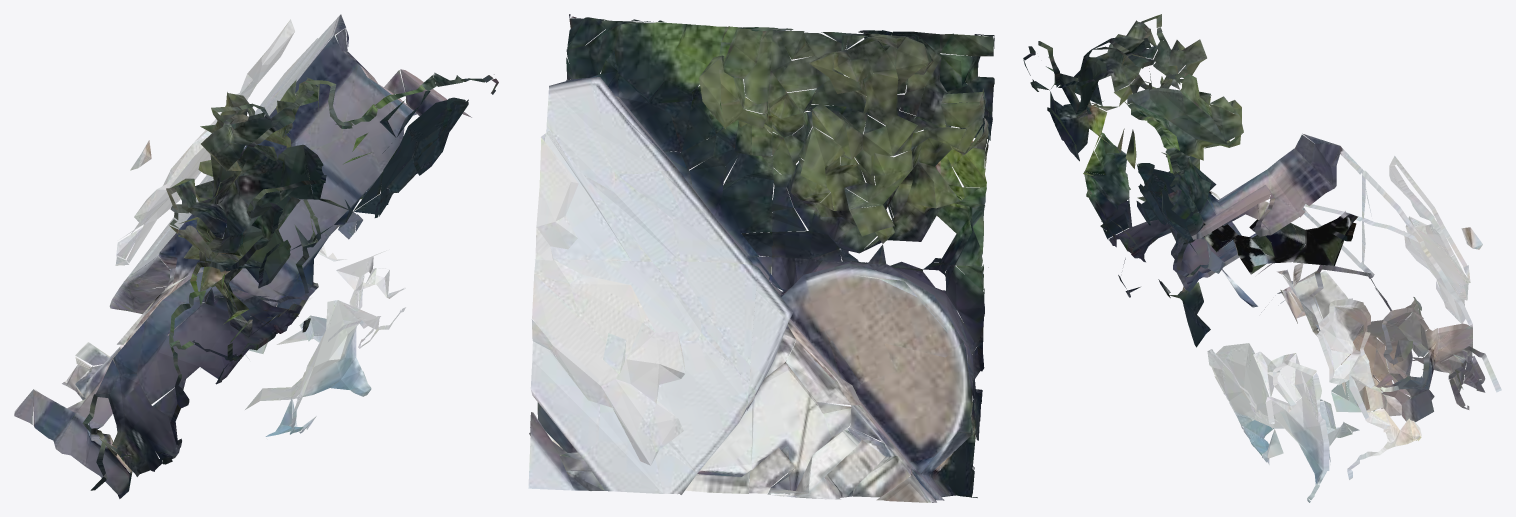
File: AJVsH2x6TDrB9vTRo_pjIz6yE319oH-MWkrPGnz3iuCNI2r1ah-I5RbN5_A7nnAb-38fw4iXfuImCpchNhFGZHJJT8DrLSa3ZSnNX4kFRC86Zwa5absMovZjTmi-nMGqJYrwOR2ApnSNLQfoHYWfQzg4mTrc.glb
The picture shows the model from 3 angles, left to right: view 1: azimuth 30°, elevation 25°; view 2: azimuth 150°, elevation 25°; view 3: azimuth 270°, elevation 25°; orthographic projection. The views are drawn at different scales.
Size of the model in its own units: 42.87 by 40.17 by 45.61.
Materials: 2 (2 with a texture image).
